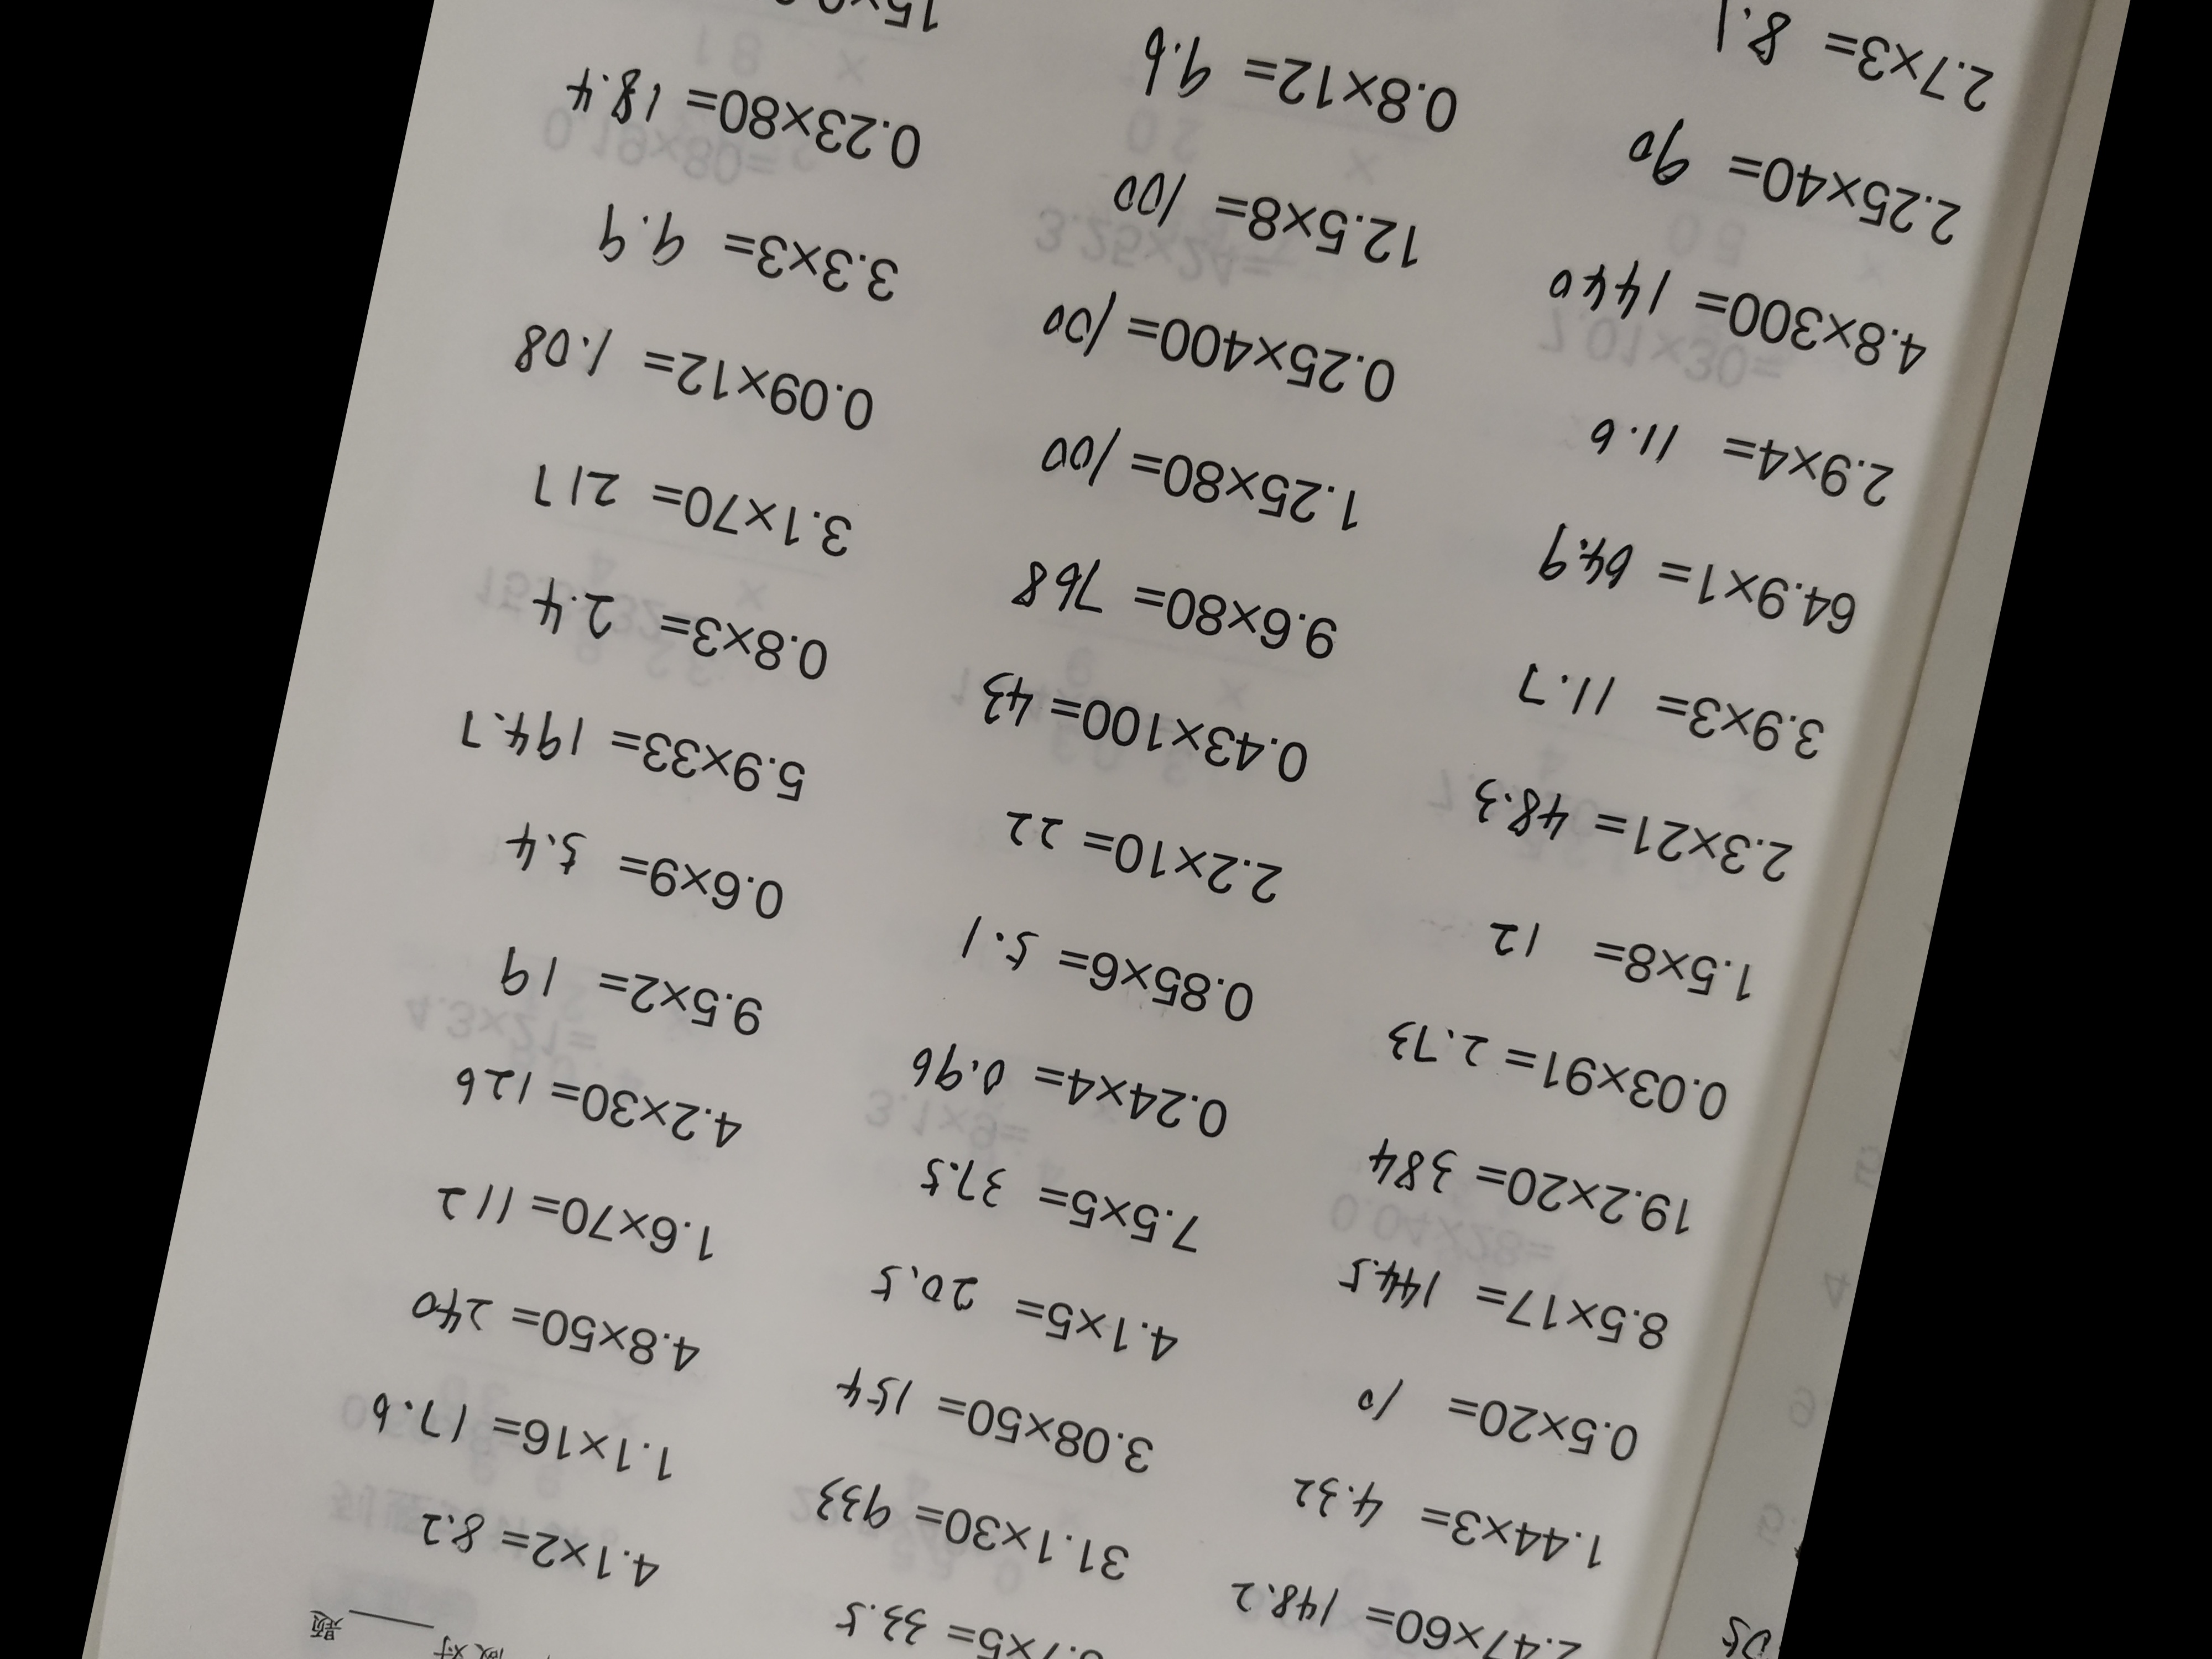equation: (1836, 16, 1968, 573), (1402, 647, 1534, 1182), (1440, 0, 1575, 516), (1635, 9, 1766, 532), (390, 1054, 514, 1568), (799, 1176, 930, 1659), (1599, 734, 1726, 1229), (627, 1150, 751, 1649), (1158, 0, 1291, 465), (469, 1100, 592, 1595), (1338, 0, 1463, 484), (712, 1173, 836, 1659), (1500, 716, 1623, 1202), (1115, 613, 1237, 1105), (1303, 659, 1425, 1145), (1211, 643, 1331, 1131), (315, 1061, 432, 1553), (1740, 63, 1860, 538), (935, 610, 1057, 1068), (1531, 68, 1648, 535), (603, 514, 718, 981), (1252, 30, 1369, 486), (681, 551, 798, 1004), (768, 575, 885, 1026), (850, 582, 965, 1039), (523, 502, 634, 969), (1703, 798, 1818, 1241), (549, 1164, 658, 1622), (977, 1263, 1103, 1659), (1031, 640, 1141, 1087), (984, 0, 1092, 437), (1069, 1288, 1193, 1659), (1362, 1323, 1498, 1659), (897, 0, 1007, 415), (1073, 24, 1181, 443), (441, 533, 543, 951), (723, 0, 833, 383), (648, 0, 761, 366), (815, 0, 920, 392), (1170, 1324, 1292, 1659), (887, 1297, 998, 1659), (573, 0, 676, 366), (1458, 1387, 1594, 1659), (1270, 1370, 1383, 1659), (1559, 1486, 1683, 1659)
